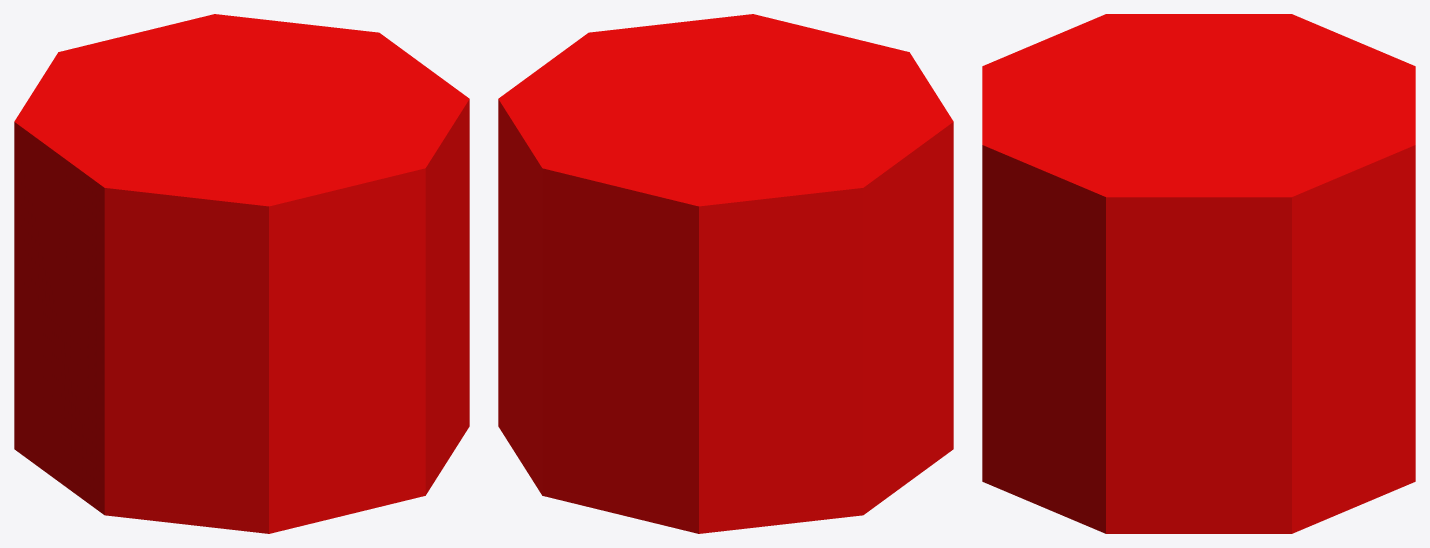
3 views of the same model, side by side, from view 1: azimuth 30°, elevation 25°; view 2: azimuth 150°, elevation 25°; view 3: azimuth 270°, elevation 25° (orthographic). The views are drawn at different scales.
Visible parts, largest first — view 1: node0; view 2: node0; view 3: node0.
Part boxes in pixels (x1,y1,x2,y2): node0: [14, 14, 469, 533]; node0: [498, 14, 953, 533]; node0: [982, 14, 1415, 533].
Bounding box in the file's own units: 0.07 × 0.07 × 0.06.
